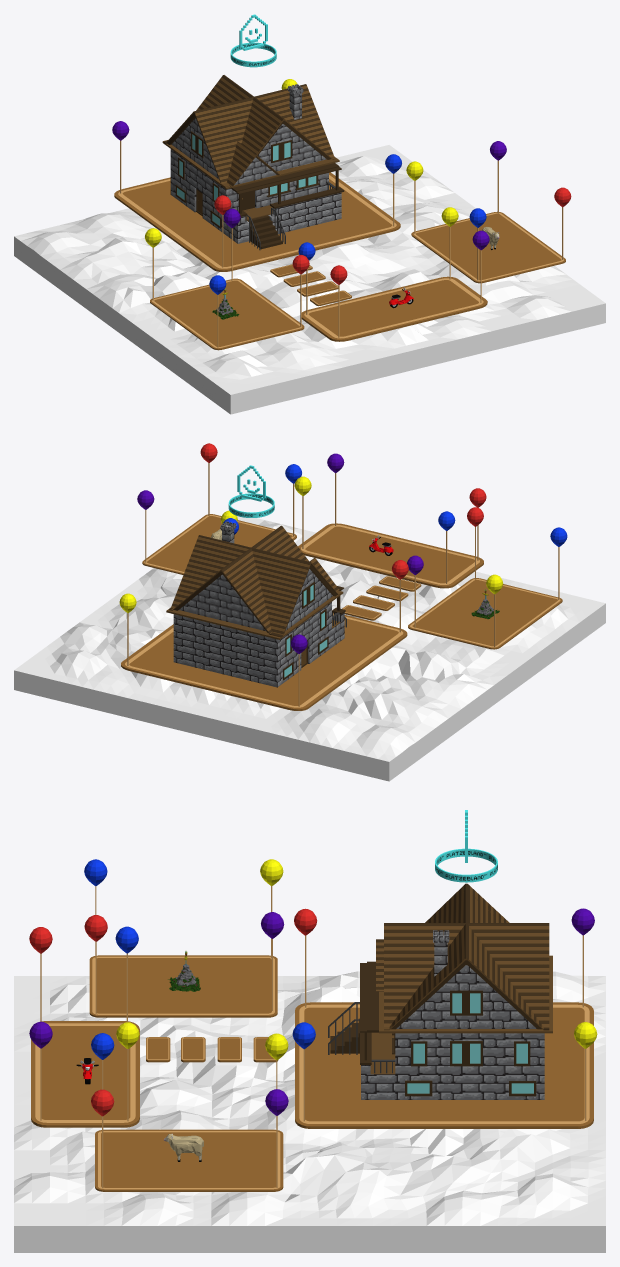
3 renders of one model, top to bottom at view 1: azimuth 30°, elevation 25°; view 2: azimuth 150°, elevation 25°; view 3: azimuth 270°, elevation 25°, orthographic. The views are drawn at different scales.
Visible parts, largest first — view 1: Cube.013, Cube.586, TYPE_PREMIUM; view 2: Cube.013, Cube.586, TYPE_PREMIUM; view 3: Cube.013, Cube.586, TYPE_PREMIUM, ANIMAL_OVEJA, OBJRANDOM_SWORD_IN_THE_STONE.
Part boxes in pixels (x1,y1,x2,y2): Cube.013: (14,79,605,414); Cube.586: (162,75,344,250); TYPE_PREMIUM: (230,14,276,67); Cube.013: (14,443,605,781); Cube.586: (166,521,346,687); TYPE_PREMIUM: (228,465,274,517); Cube.013: (14,859,605,1252); Cube.586: (328,883,552,1099); TYPE_PREMIUM: (435,810,497,882); ANIMAL_OVEJA: (164,1133,203,1161); OBJRANDOM_SWORD_IN_THE_STONE: (168,951,200,991).
Bounding box in the file's own units: 4000 × 2443 × 4000.
Materials: 38 (3 with a texture image).
